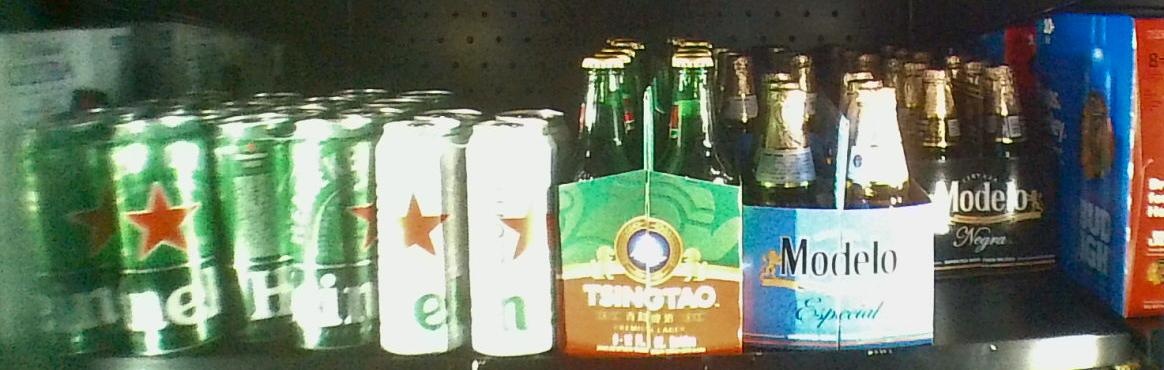bottle: (744, 50, 932, 347), (563, 52, 741, 359), (1, 124, 217, 354), (373, 126, 556, 354), (214, 122, 370, 346), (928, 66, 1059, 281)
